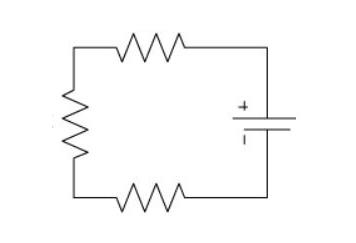resistor: (101, 16, 199, 74), (102, 173, 196, 219), (56, 76, 98, 172)
